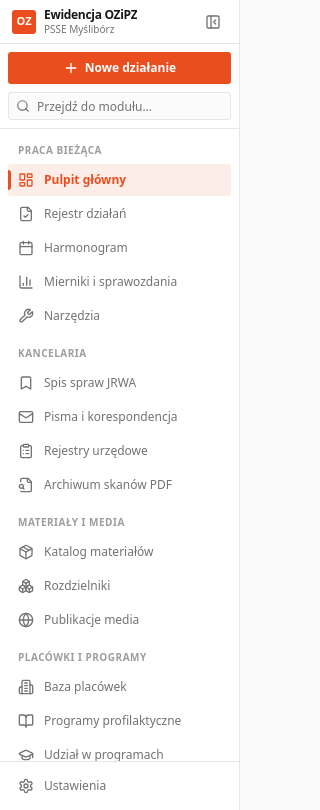
Test: OzipzSidebar routing and navigation › collapses and expands a group
Click the button "Kancelaria" at (120, 354), box [8,344,231,363]
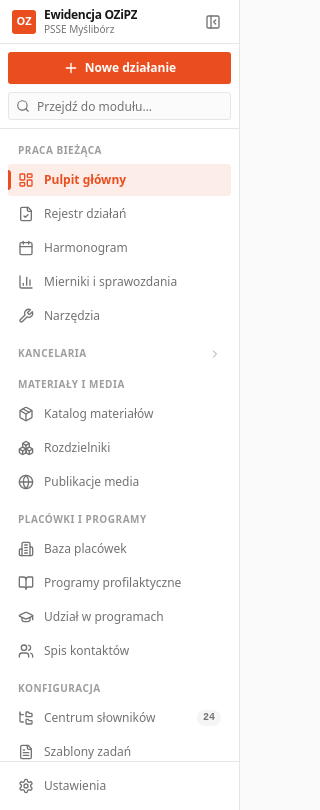
Expected: the link "Pisma i korespondencja" is gone
Expected: the button "Kancelaria" is collapsed
Click the button "Kancelaria" at (120, 354), box [8,344,231,363]
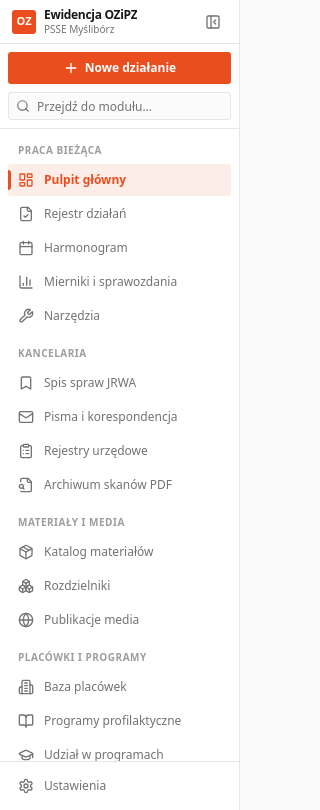
Expected: the text "Pisma i korespondencja" is shown, [44,408,178,425]
